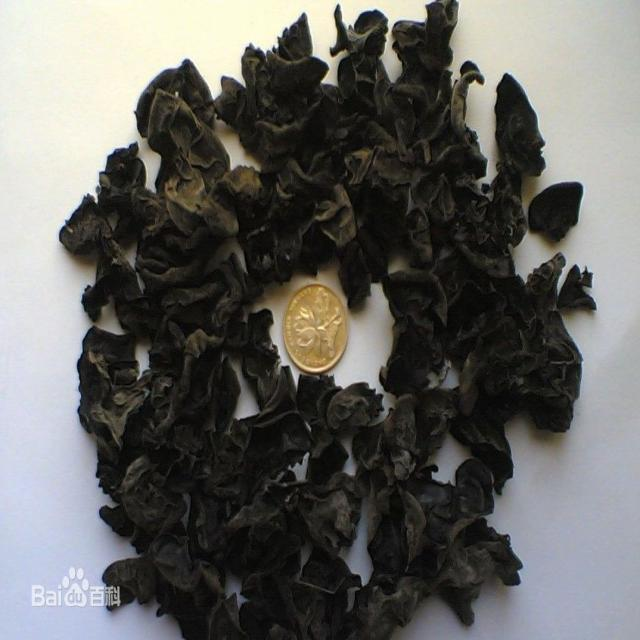Auricularia auricula: (58, 0, 597, 640)
